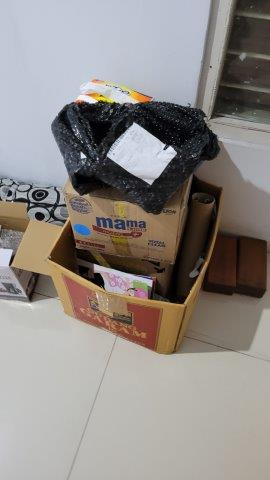kardus: (43, 175, 228, 359), (1, 201, 40, 301)
kertas: (108, 124, 175, 183)
